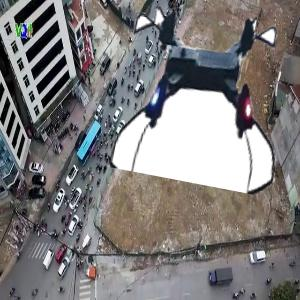drone: (112, 4, 292, 184)
